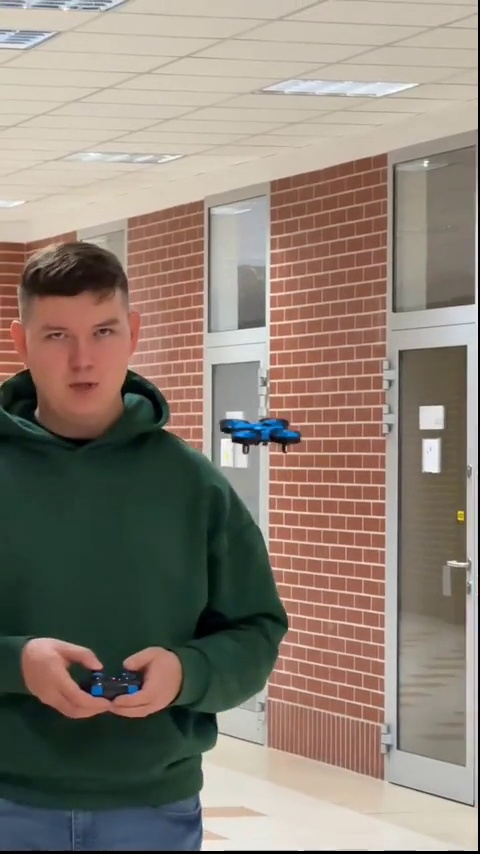drone: (221, 410, 296, 452)
no vest: (2, 239, 280, 842)
